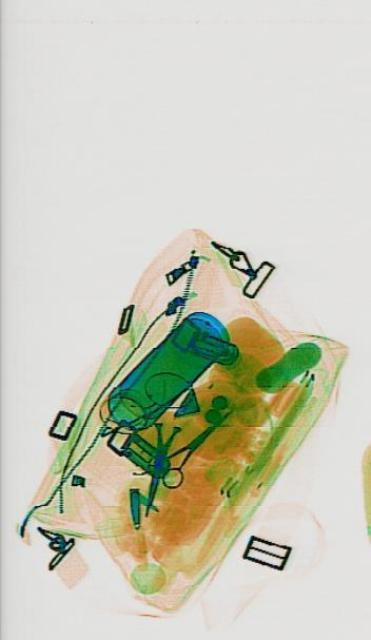Scissors: (147, 387, 234, 499)
